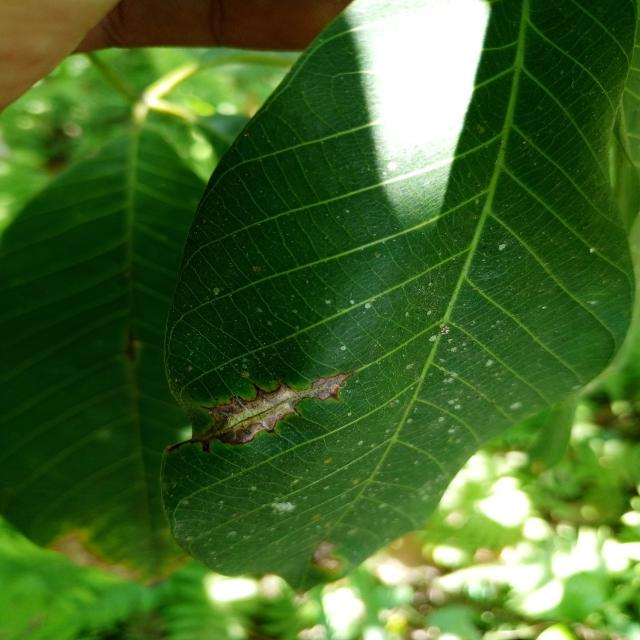Corynespora: (164, 370, 356, 454)
